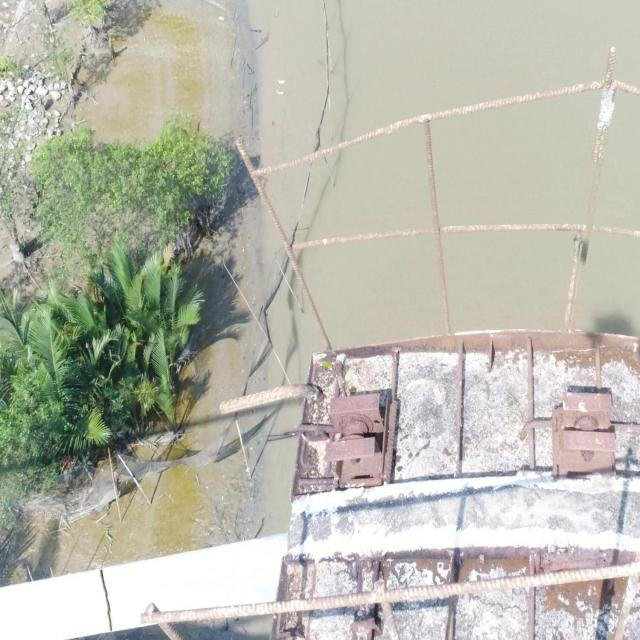crack: (98, 569, 115, 632)
